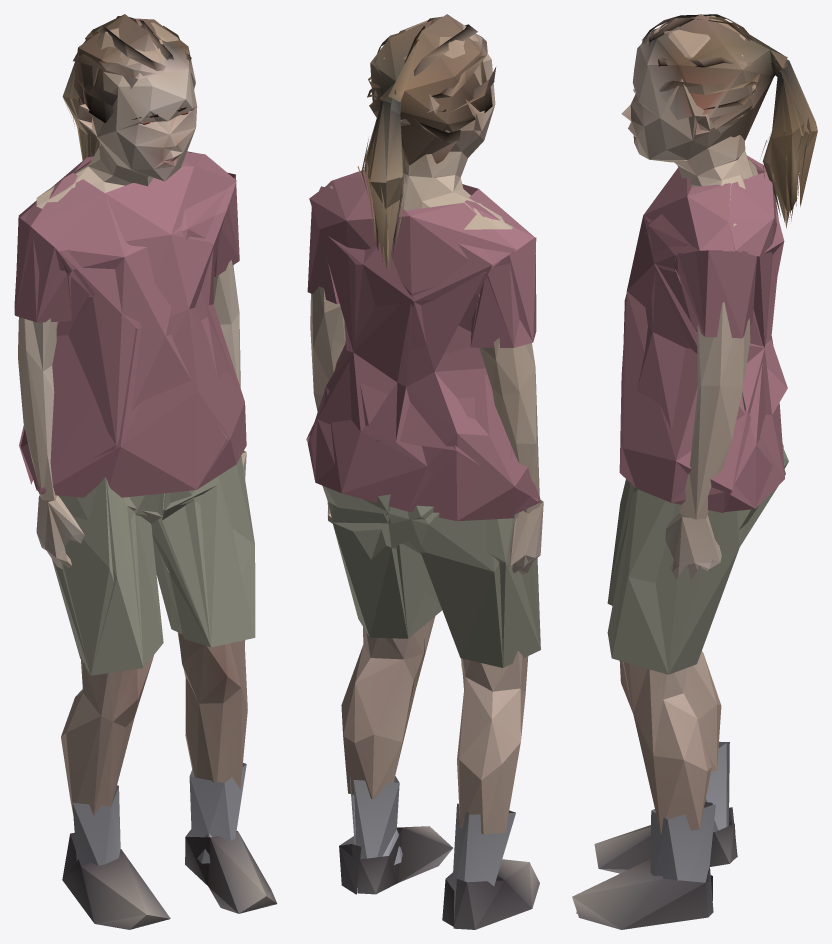
Rendered from person-6-far.glb.
3 renders of one model, left to right at view 1: azimuth 30°, elevation 25°; view 2: azimuth 150°, elevation 25°; view 3: azimuth 270°, elevation 25°, orthographic. The views are drawn at different scales.
Parts seen in each view (by area): view 1: person-6 far; view 2: person-6 far; view 3: person-6 far.
Part boxes in pixels (<box>): person-6 far: <box>14,14,277,929</box>; person-6 far: <box>306,14,543,929</box>; person-6 far: <box>572,14,817,929</box>.
Bounding box in the file's own units: 0.3116 × 1.18 × 0.303.
